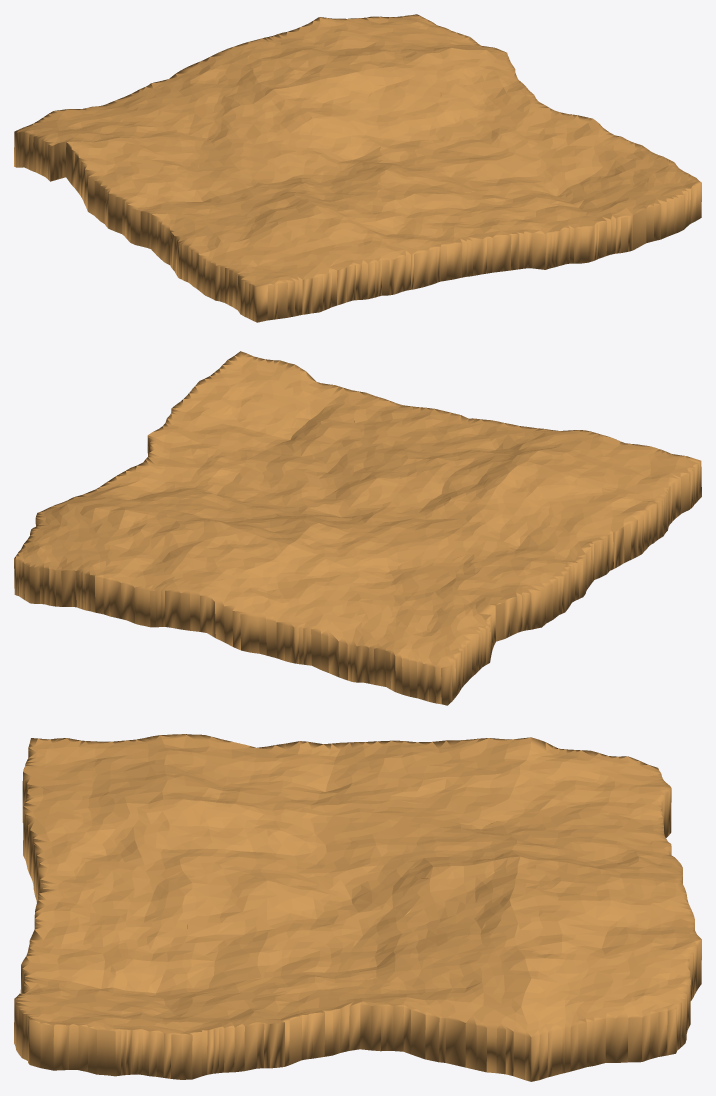
Rendered from Environment_1.fbx.
The picture shows the model from 3 angles, top to bottom: view 1: azimuth 30°, elevation 25°; view 2: azimuth 150°, elevation 25°; view 3: azimuth 270°, elevation 25°; orthographic projection. The views are drawn at different scales.
Parts seen in each view (by area): view 1: Environment_1; view 2: Environment_1; view 3: Environment_1.
Boxes of the visible parts, <box> form: Environment_1: <box>14,14,701,322</box>; Environment_1: <box>14,351,701,705</box>; Environment_1: <box>14,734,701,1081</box>.
Bounding box in the file's own units: 2144 × 328 × 2156.
